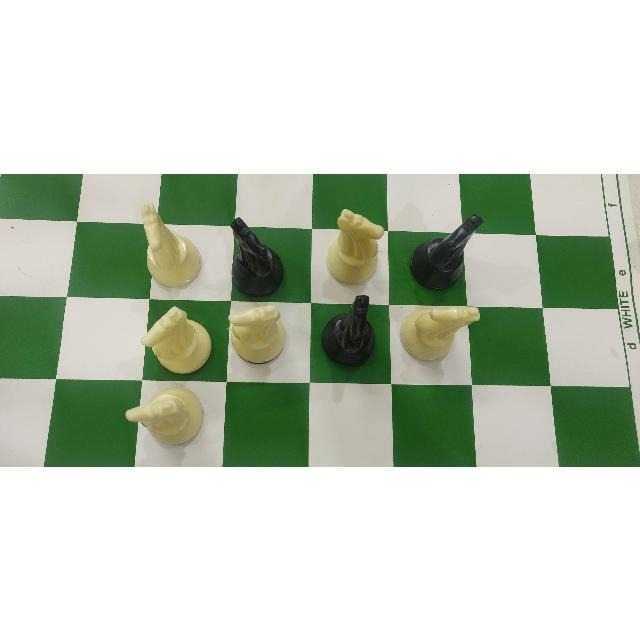black-knight: (406, 208, 495, 293), (227, 208, 299, 294), (318, 294, 381, 372)
white-knight: (118, 384, 220, 450), (400, 296, 481, 379), (133, 202, 210, 286), (134, 303, 217, 375), (324, 201, 386, 291), (227, 305, 292, 370)
